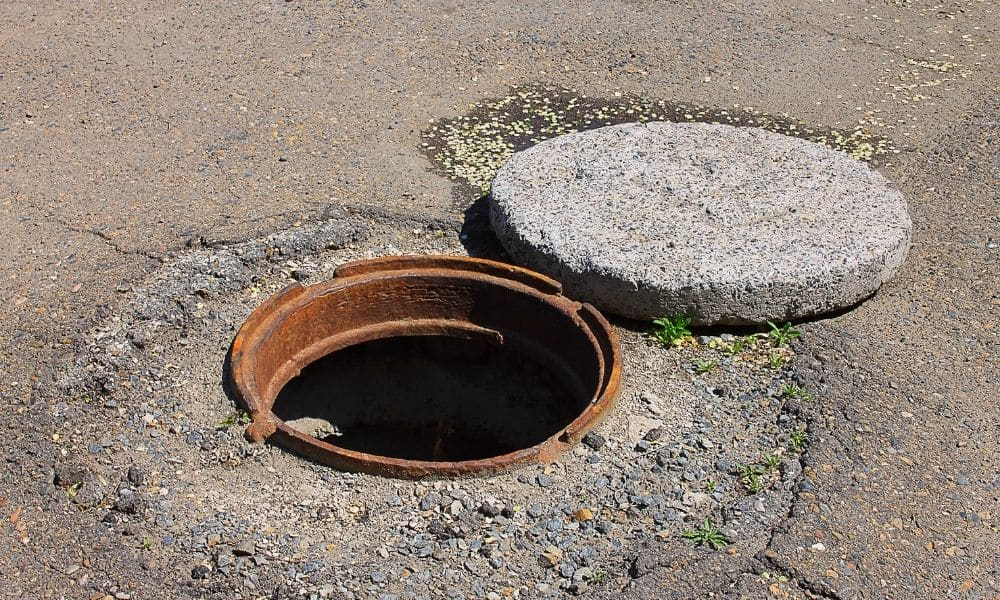open_manhole: (204, 246, 631, 479)
